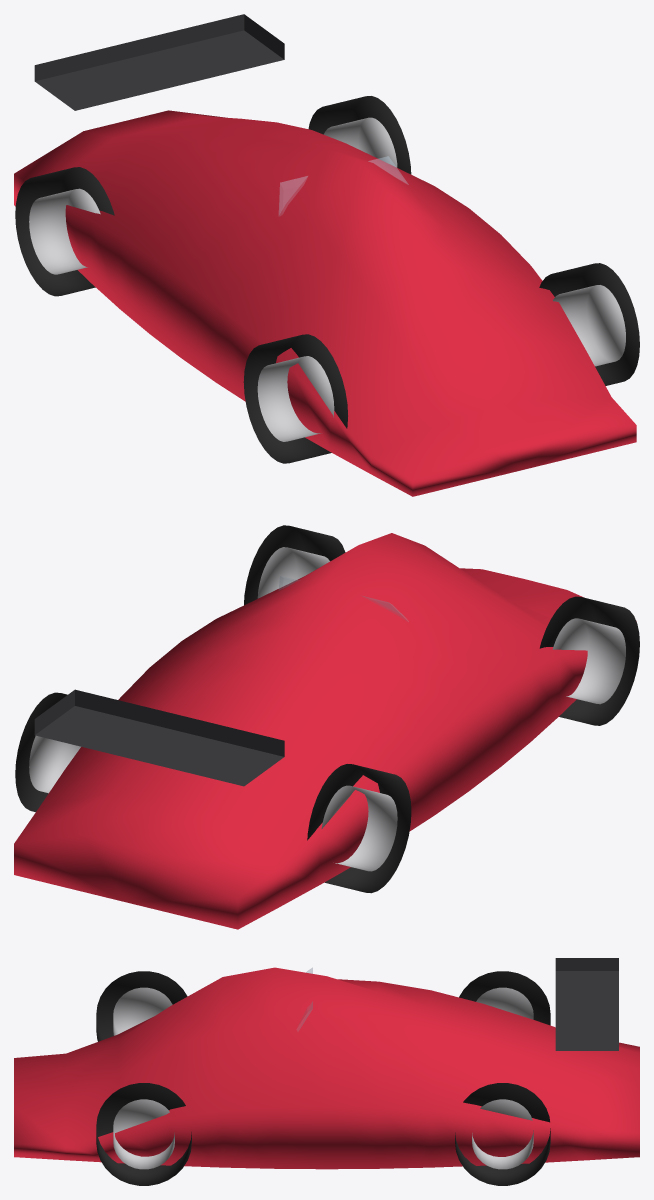
Rendered from voiture_lowpoly.gltf.
3 views of the same model, one above another, from view 1: azimuth 30°, elevation 25°; view 2: azimuth 150°, elevation 25°; view 3: azimuth 270°, elevation 25° (orthographic). The views are drawn at different scales.
Visible parts, largest first — view 1: BodyNode, WingNode, WheelFR, WheelRR, WheelFL, WheelRL, GlassNode; view 2: BodyNode, WingNode, WheelFR, WheelRR, WheelFL, WheelRL; view 3: BodyNode, WingNode, WheelFL, WheelRL, WheelFR, WheelRR.
Part boxes in pixels (bbox=[...]): BodyNode: bbox=[14, 110, 636, 496]; WingNode: bbox=[34, 14, 284, 110]; WheelFR: bbox=[243, 334, 347, 463]; WheelRR: bbox=[15, 167, 114, 296]; WheelFL: bbox=[539, 263, 639, 385]; WheelRL: bbox=[308, 96, 411, 174]; GlassNode: bbox=[279, 156, 408, 215]; BodyNode: bbox=[14, 533, 636, 929]; WingNode: bbox=[34, 689, 284, 786]; WheelFR: bbox=[539, 596, 639, 725]; WheelRR: bbox=[307, 764, 411, 893]; WheelFL: bbox=[244, 525, 345, 605]; WheelRL: bbox=[15, 692, 80, 812]; BodyNode: bbox=[14, 967, 639, 1169]; WingNode: bbox=[555, 958, 618, 1050]; WheelFL: bbox=[96, 1083, 191, 1185]; WheelRL: bbox=[455, 1083, 550, 1185]; WheelFR: bbox=[96, 971, 187, 1041]; WheelRR: bbox=[459, 971, 550, 1025].
Bounding box in the file's own units: 2.16 × 1.21 × 4.45.
